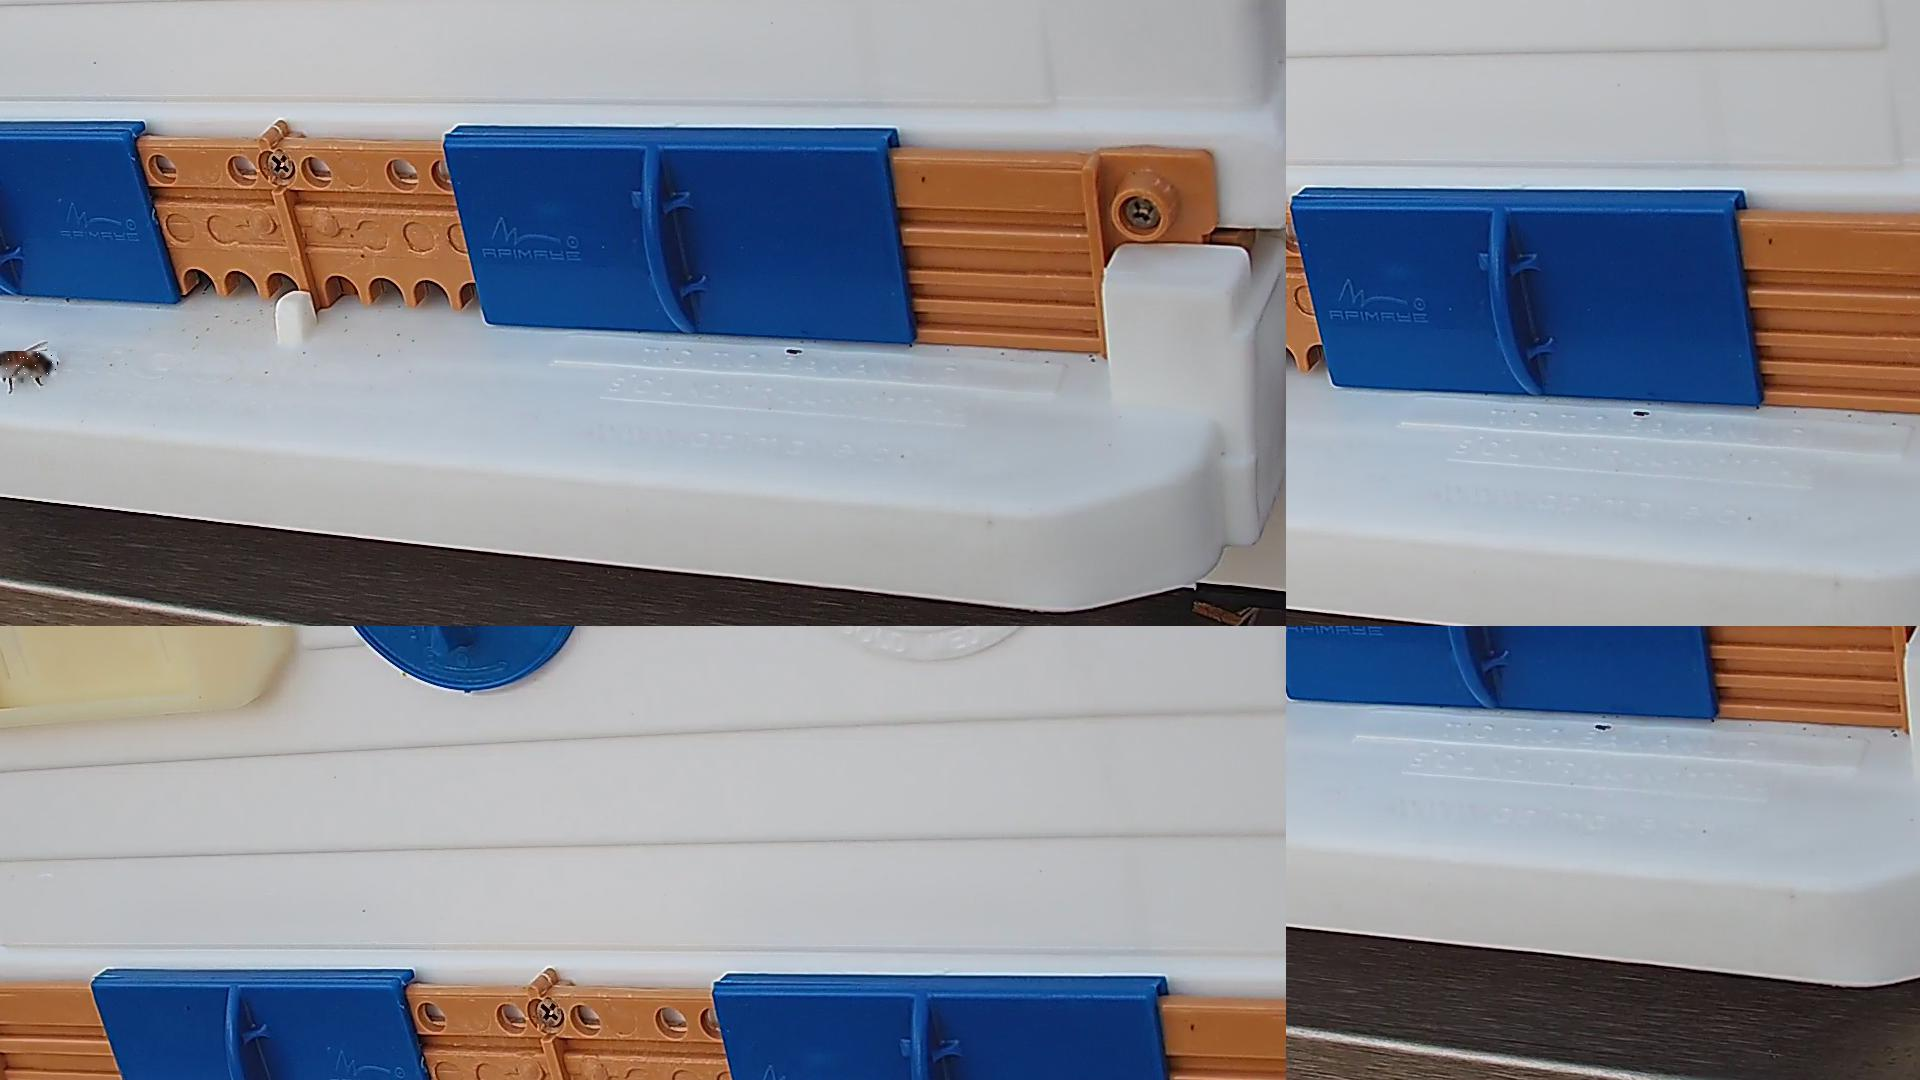bee: (0, 351, 59, 381)
